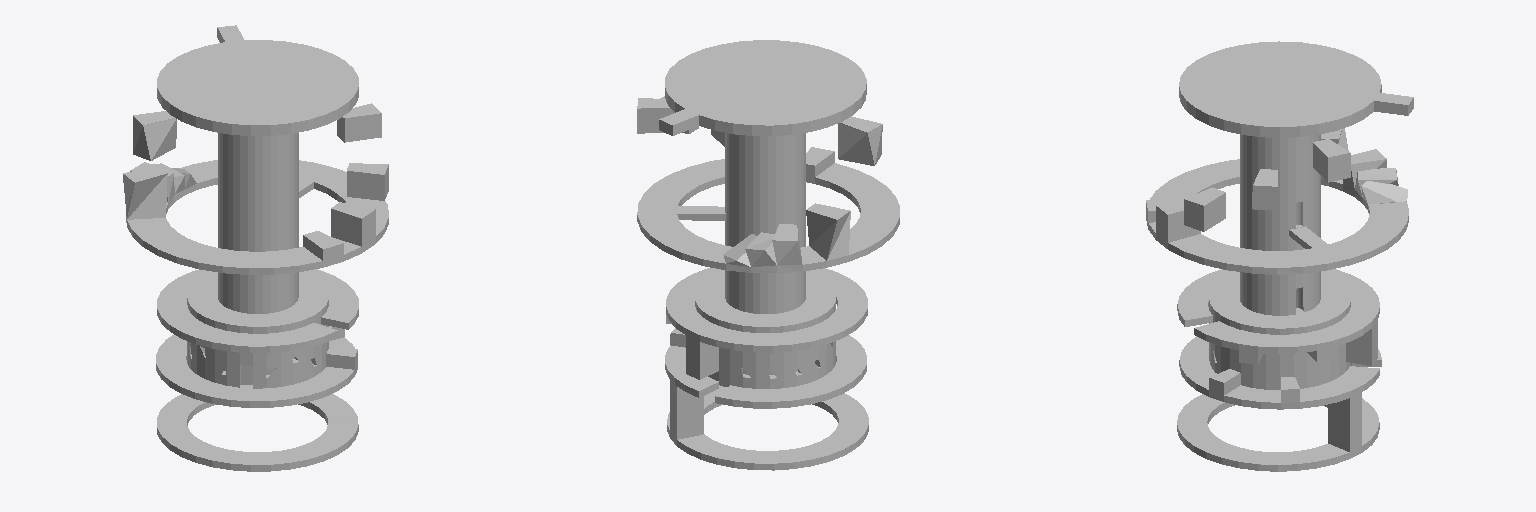
The model's file is PlatformHole.obj.
The picture shows the model from 3 angles: view 1: azimuth 30°, elevation 25°; view 2: azimuth 150°, elevation 25°; view 3: azimuth 270°, elevation 25°; orthographic projection.
Parts seen in each view (by area): view 1: Cylinder, Cylinder.010, Cylinder.005, Cylinder.001, Cylinder.004, Cylinder.003, Cylinder.002; view 2: Cylinder, Cylinder.010, Cylinder.005, Cylinder.001, Cylinder.003, Cylinder.004, Cylinder.002; view 3: Cylinder, Cylinder.010, Cylinder.005, Cylinder.003, Cylinder.001, Cylinder.004, Cylinder.002.
Part boxes in pixels (x1,y1,x2,y2): Cylinder: (123, 103, 388, 274); Cylinder.010: (157, 25, 358, 135); Cylinder.005: (218, 133, 298, 313); Cylinder.001: (187, 273, 328, 388); Cylinder.004: (157, 394, 358, 471); Cylinder.003: (157, 269, 358, 352); Cylinder.002: (156, 326, 357, 407); Cylinder: (637, 96, 899, 272); Cylinder.010: (659, 40, 866, 135); Cylinder.005: (725, 133, 805, 313); Cylinder.001: (695, 273, 835, 388); Cylinder.003: (666, 268, 867, 379); Cylinder.004: (667, 380, 868, 470); Cylinder.002: (665, 328, 866, 408); Cylinder: (1146, 41, 1408, 274); Cylinder.010: (1179, 42, 1413, 137); Cylinder.005: (1240, 134, 1320, 315); Cylinder.003: (1177, 269, 1379, 365); Cylinder.001: (1209, 274, 1350, 389); Cylinder.004: (1177, 392, 1379, 471); Cylinder.002: (1179, 336, 1381, 409).
Size of the model in its own units: 2.62 by 3.76 by 2.65.